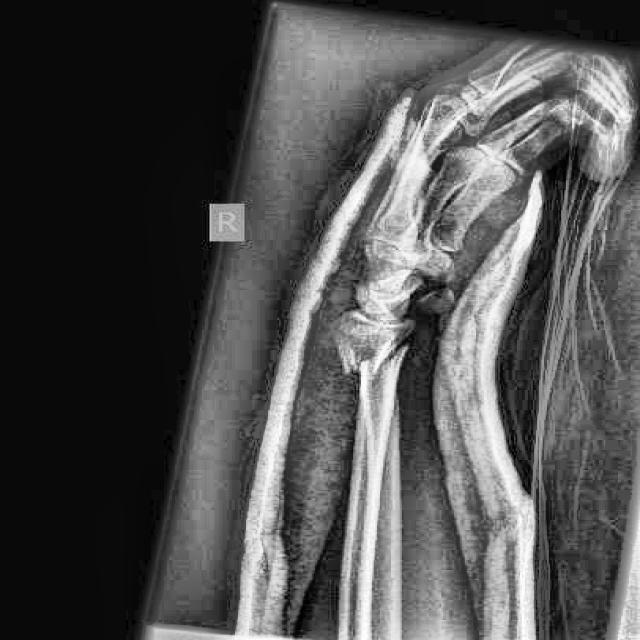wrist positive: (304, 326, 442, 395)
